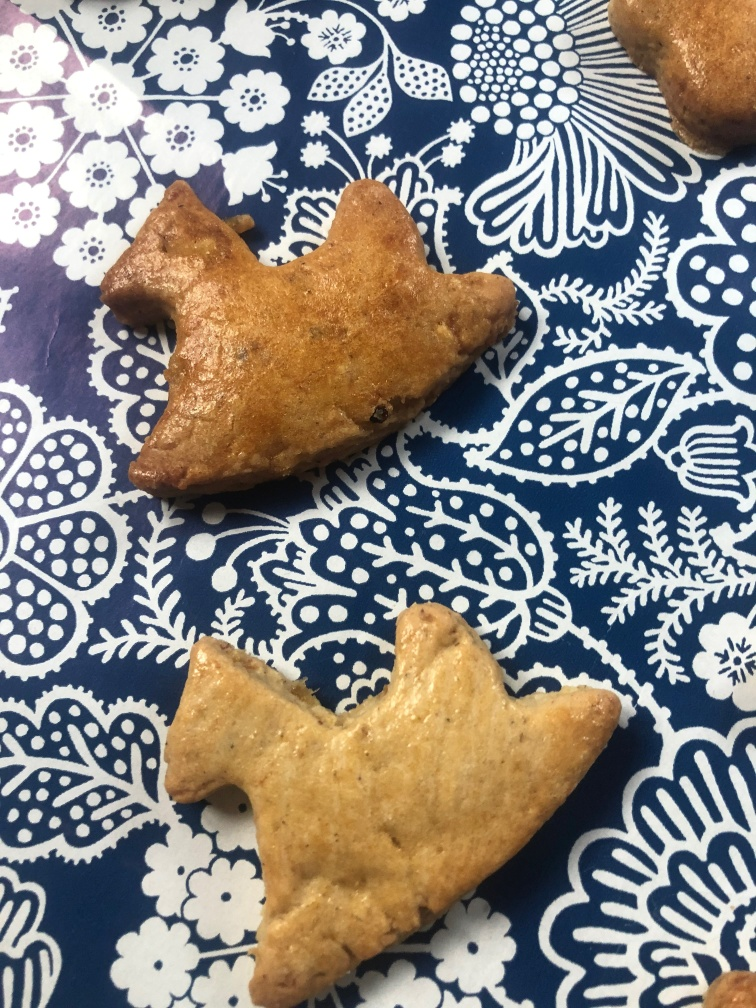lamb: (152, 596, 627, 1008), (91, 161, 539, 504)
